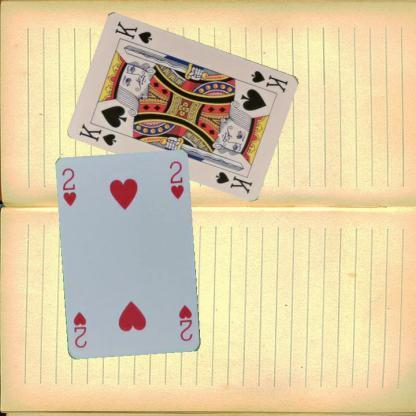2h: (60, 166, 78, 208), (176, 302, 194, 343)
Ks: (248, 68, 290, 94), (76, 121, 118, 147)
